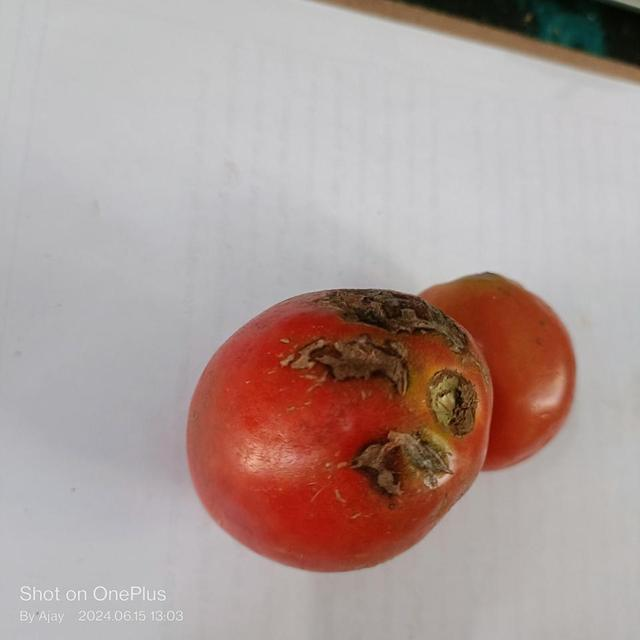Bacterial Spot Fruit: (35, 26, 302, 310)
